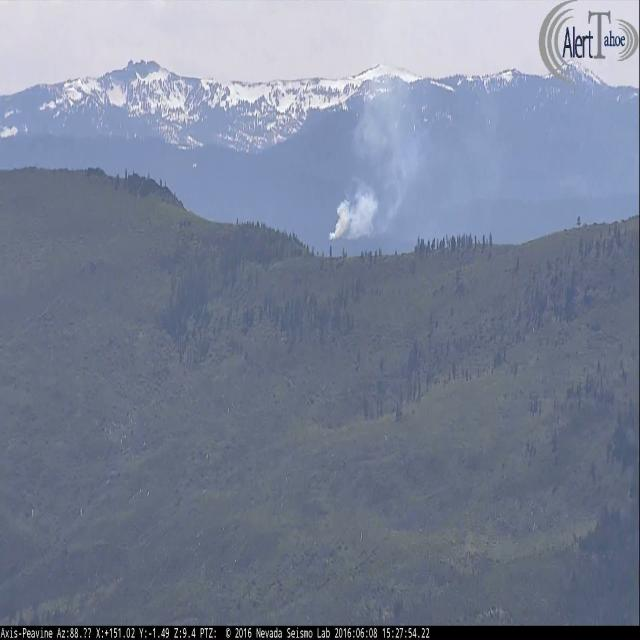smoke: (327, 71, 419, 244)
